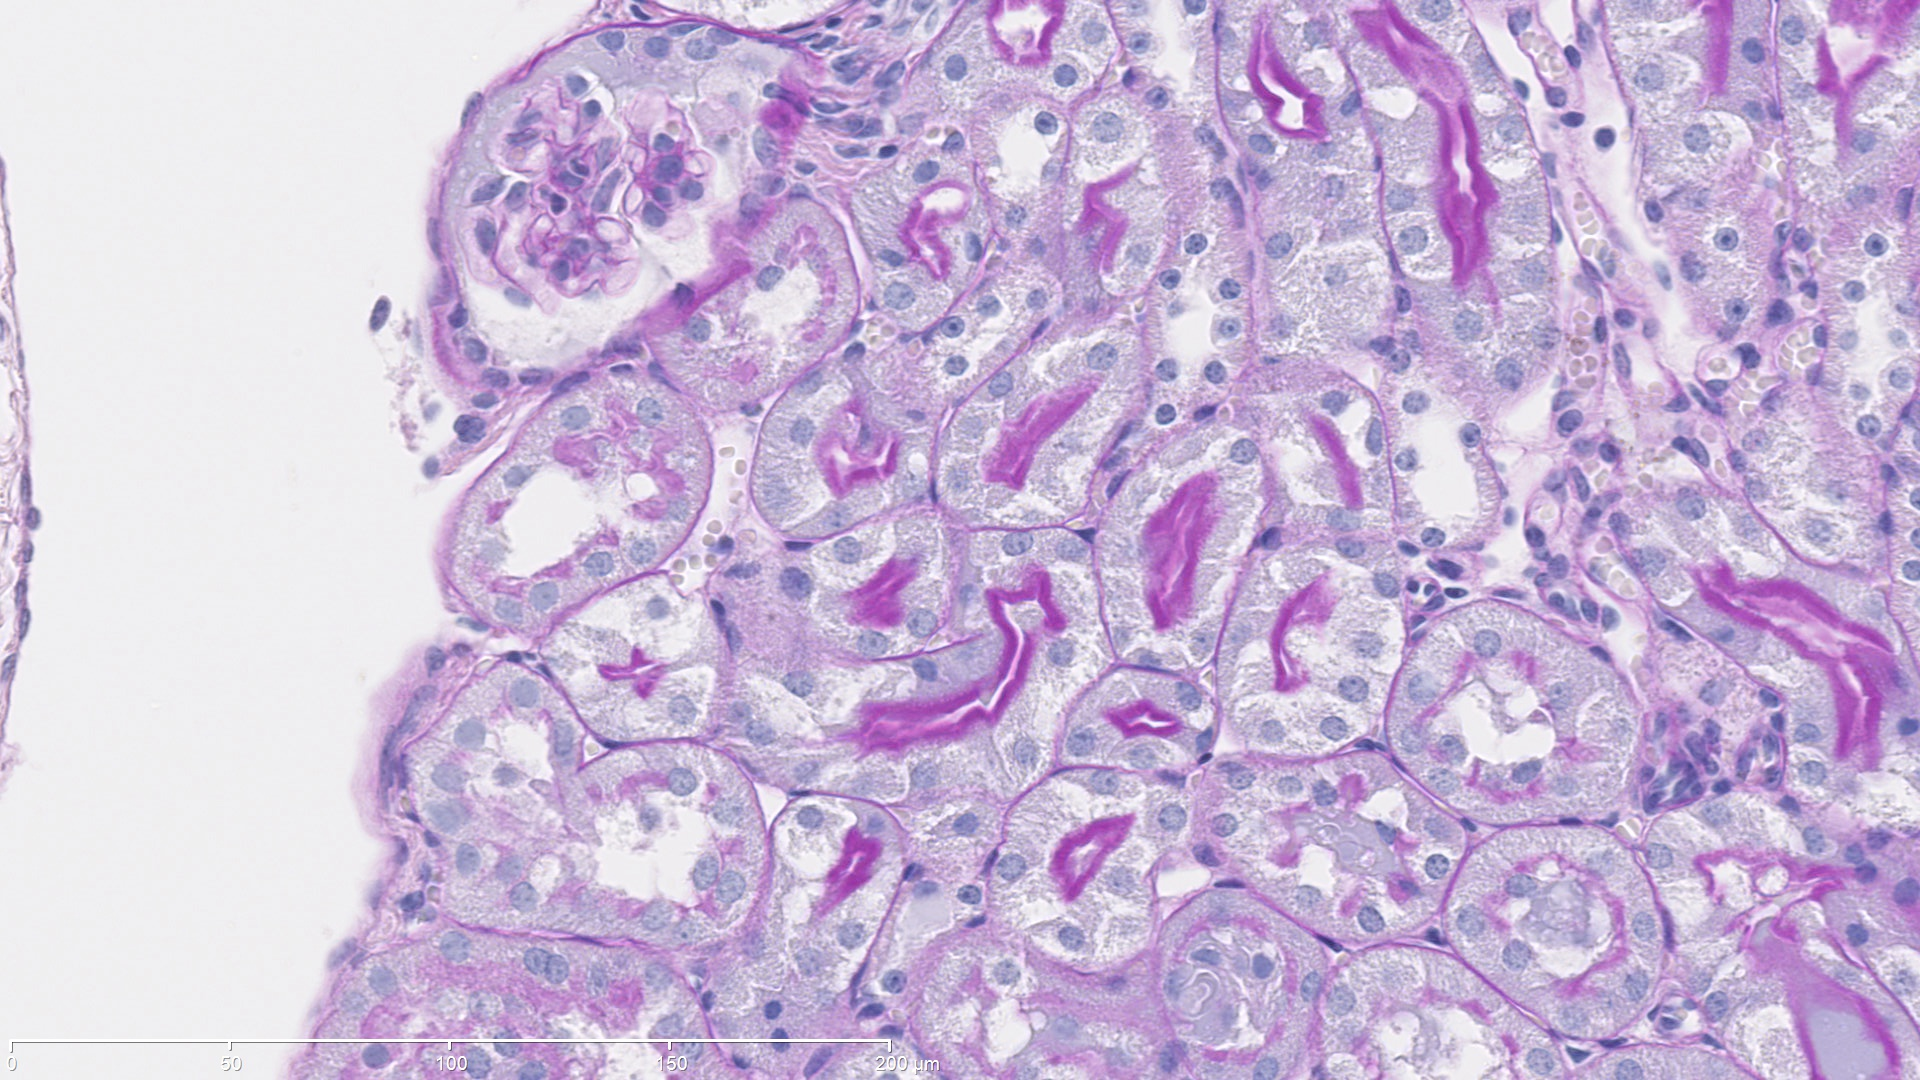Glomeruli: (476, 65, 738, 320)
